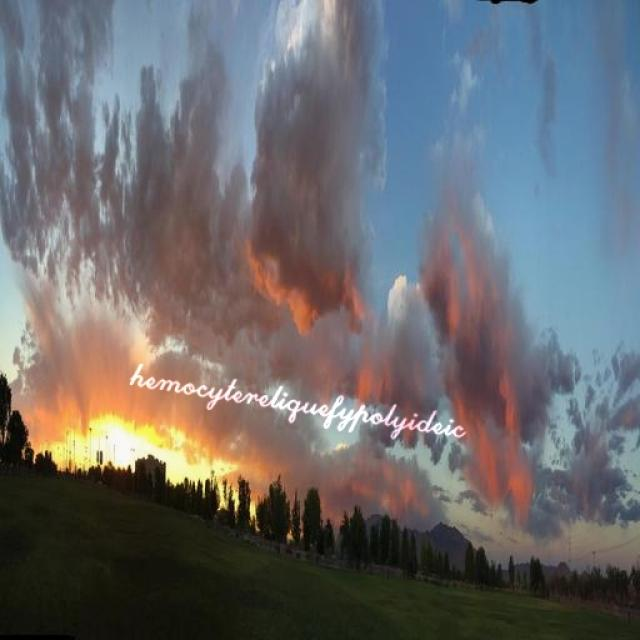watermark: (122, 360, 486, 442)
